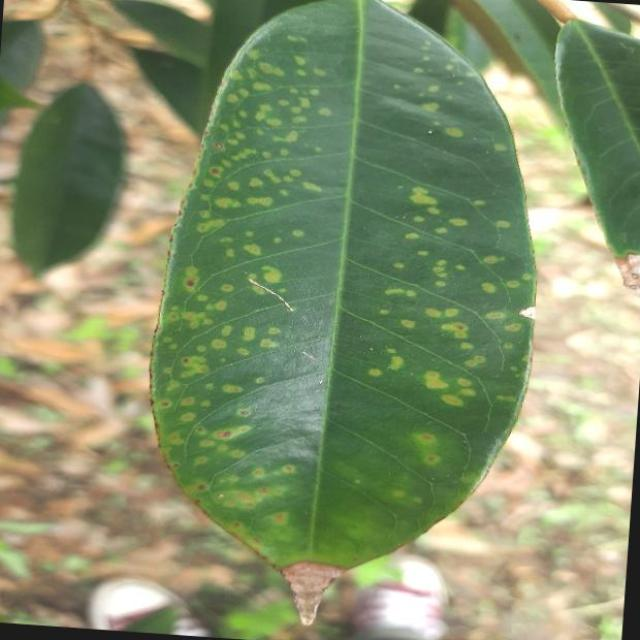Leaf Spot: (120, 0, 574, 638)
